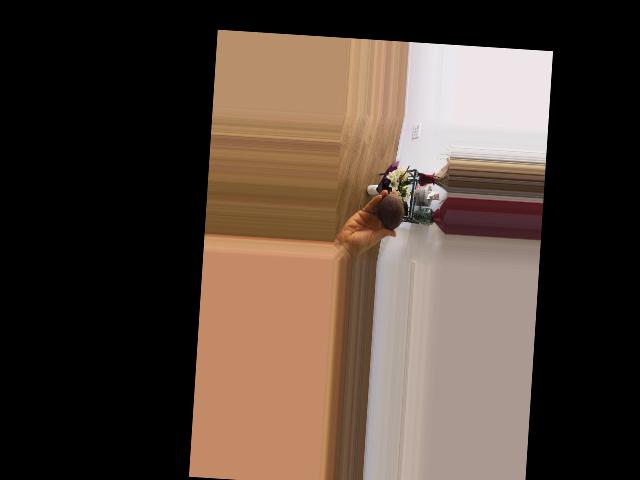beet: (358, 191, 409, 229)
